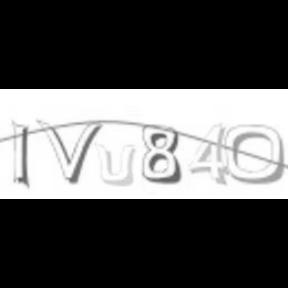4: (189, 122, 229, 188)
8: (141, 122, 183, 184)
I: (9, 119, 31, 189)
O: (224, 122, 284, 186)
V: (34, 118, 104, 184)
u: (92, 141, 138, 189)
